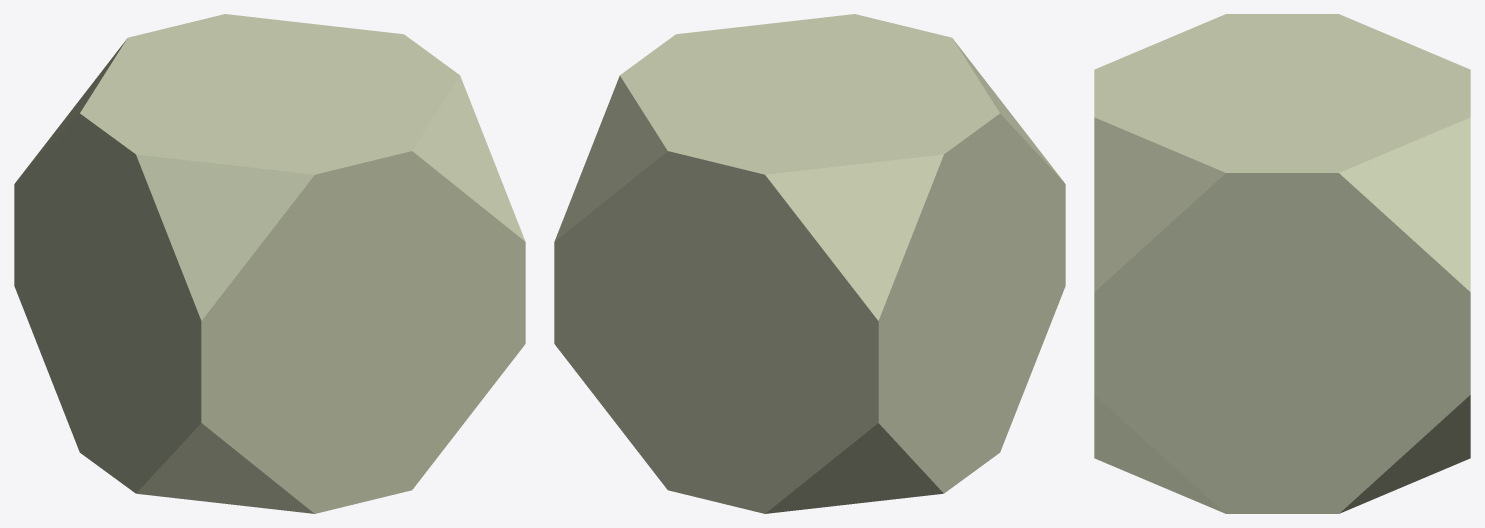
The model's file is eridani_node_s0p5_1_collider.obj.
3 views of the same model, side by side, from view 1: azimuth 30°, elevation 25°; view 2: azimuth 150°, elevation 25°; view 3: azimuth 270°, elevation 25° (orthographic).
Visible parts, largest first — view 1: collider; view 2: collider; view 3: collider.
Boxes of the visible parts, box(x1,y1,x2,y2) form: collider: box(14, 14, 525, 513); collider: box(554, 14, 1065, 513); collider: box(1094, 14, 1470, 513).
Size of the model in its own units: 1 by 1 by 1.
